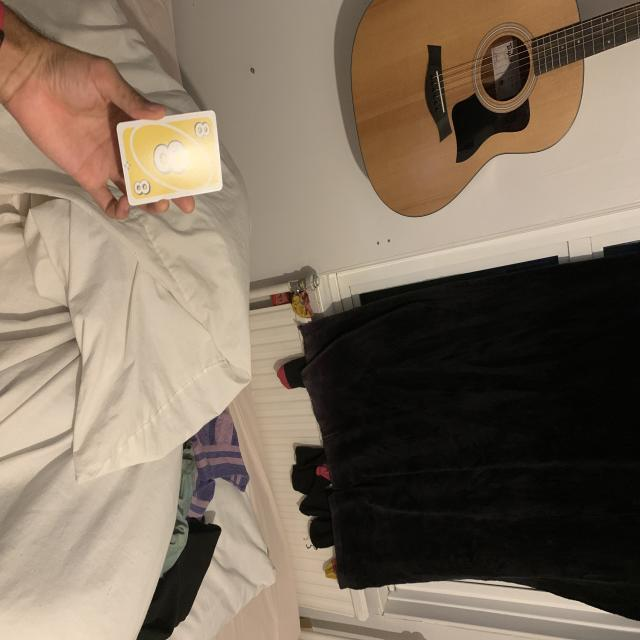lyellow-8: (191, 117, 215, 143)
